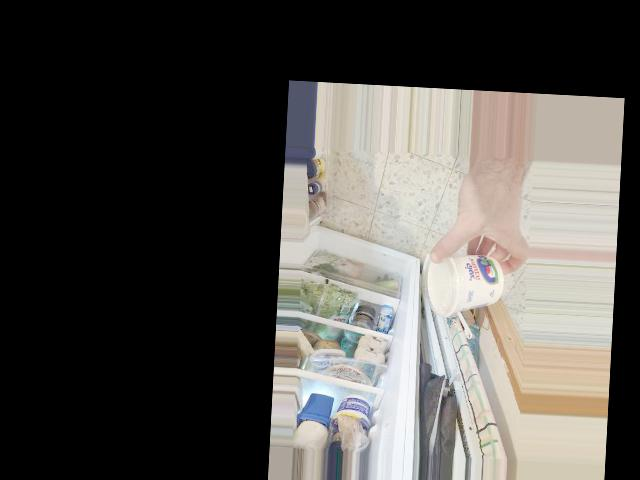cotage: (421, 240, 508, 322)
